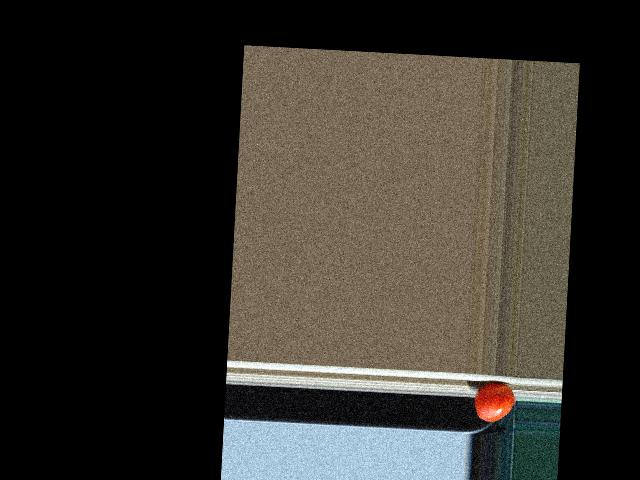tomato: (473, 382, 514, 423)
